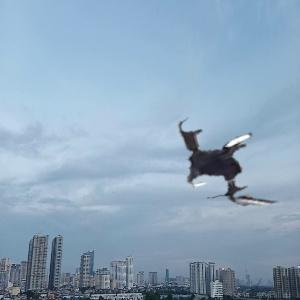drone: (163, 107, 276, 220)
